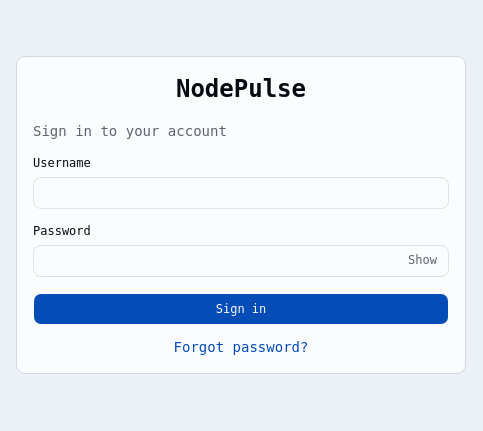
Test: LoginPage › shows a rate-limit message when the API returns ERR_RATE_LIMITED
Step 1. Type "admin" into the field labelled "Username" → {"x": 241, "y": 193}, box 33,177 -> 449,209
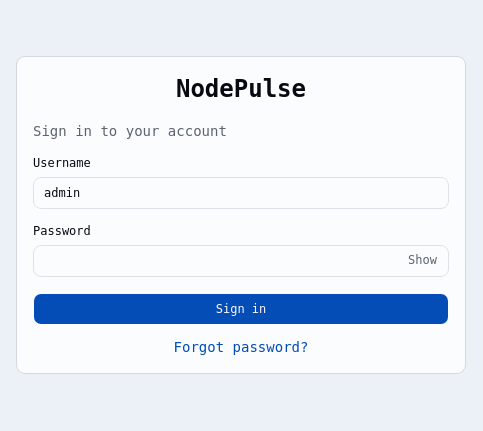
Step 2. Type "x" into the password field labelled "Password" → {"x": 241, "y": 261}, box 33,245 -> 449,277
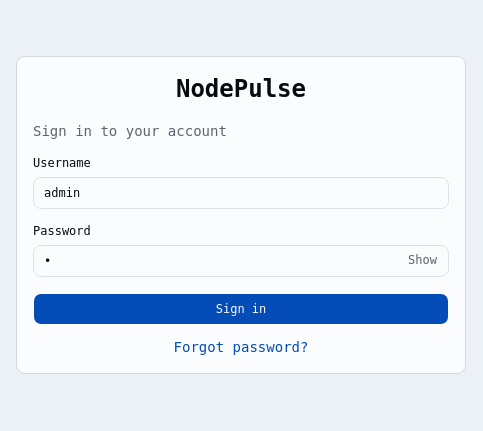
Step 3. Click the button "Sign in" → {"x": 241, "y": 309}, box 33,293 -> 449,325
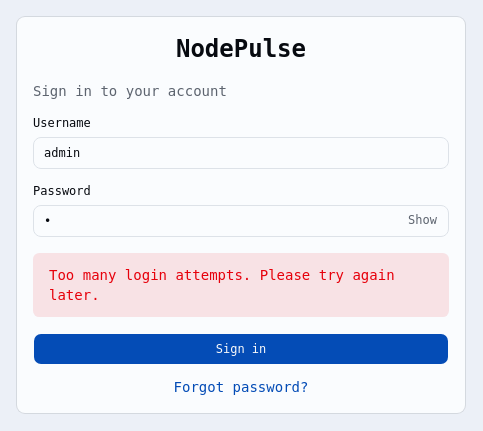
Result: the text "Too many login attempts. Please try again later." is shown at 33,253 -> 449,317
